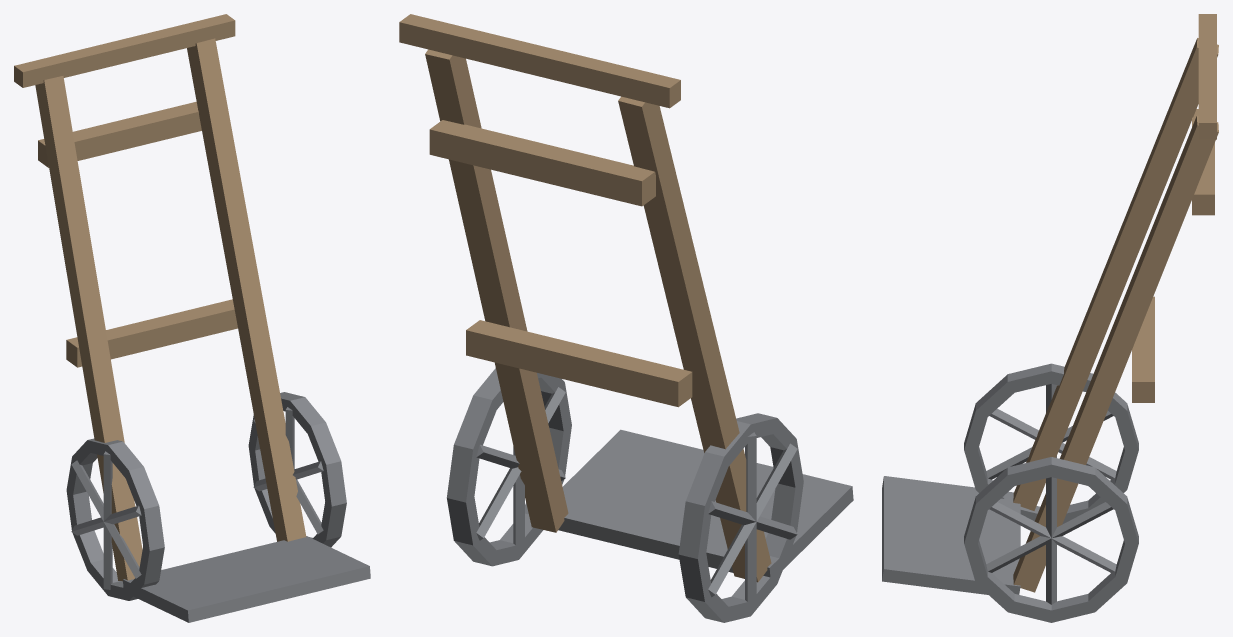
Rendered from steam-era-railway-and-rolling-stock-sack-barrow-78fe2b6a.glb.
3 renders of one model, left to right at view 1: azimuth 30°, elevation 25°; view 2: azimuth 150°, elevation 25°; view 3: azimuth 270°, elevation 25°, orthographic. The views are drawn at different scales.
Parts seen in each view (by area): view 1: sack-barrow; view 2: sack-barrow; view 3: sack-barrow.
Part boxes in pixels (<box>): sack-barrow: <box>14,14,370,622</box>; sack-barrow: <box>399,14,853,622</box>; sack-barrow: <box>882,14,1218,622</box>.
Size of the model in its own units: 0.56 by 1.2 by 0.7327.
